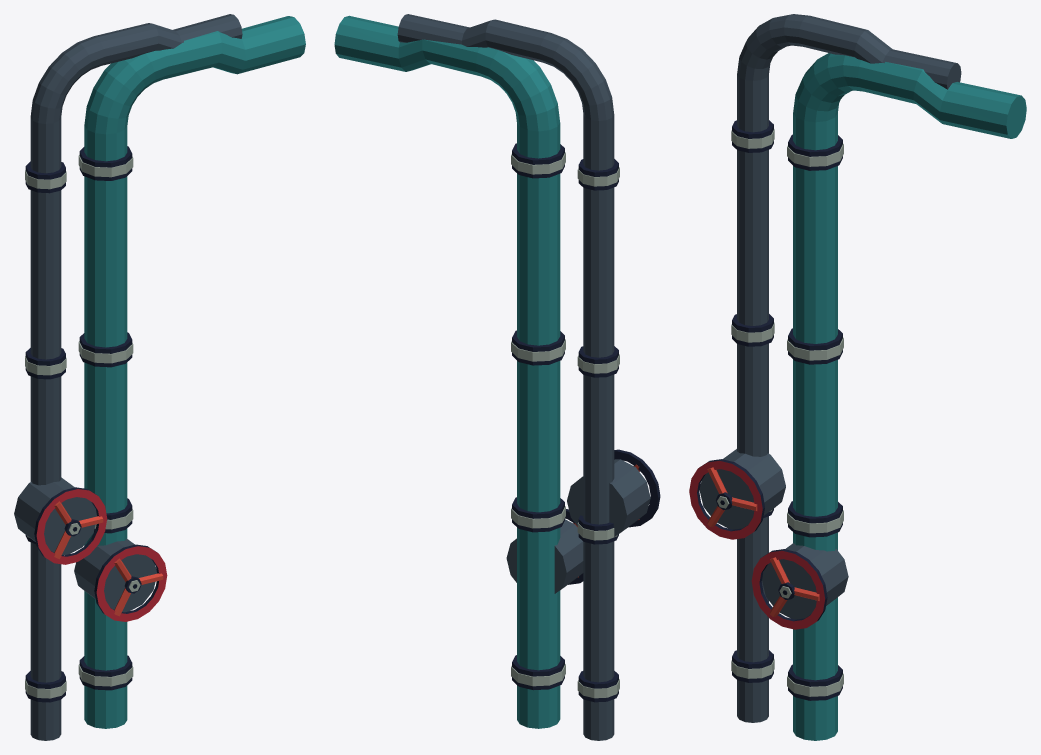
The model's file is return_manifold.glb.
The picture shows the model from 3 angles, left to right: view 1: azimuth 30°, elevation 25°; view 2: azimuth 150°, elevation 25°; view 3: azimuth 330°, elevation 25°; orthographic projection. The views are drawn at different scales.
Visible parts, largest first — view 1: Mandrel_bends, Pipe_unions, Manifold_body, Shutoff_handgrip; view 2: Mandrel_bends, Pipe_unions, Manifold_body, Shutoff_handgrip; view 3: Mandrel_bends, Pipe_unions, Manifold_body, Shutoff_handgrip.
Part boxes in pixels (x1,y1,x2,y2): Mandrel_bends: (30,14,305,740); Pipe_unions: (25,146,133,702); Manifold_body: (14,477,156,612); Shutoff_handgrip: (34,487,167,621); Mandrel_bends: (334,14,614,740); Pipe_unions: (511,143,619,702); Manifold_body: (506,459,650,593); Shutoff_handgrip: (565,449,660,584); Mandrel_bends: (737,14,1026,740); Pipe_unions: (731,120,843,700); Manifold_body: (699,449,848,619); Shutoff_handgrip: (689,459,827,629).
Bounding box in the file's own units: 1.34 × 3.05 × 0.3439.
